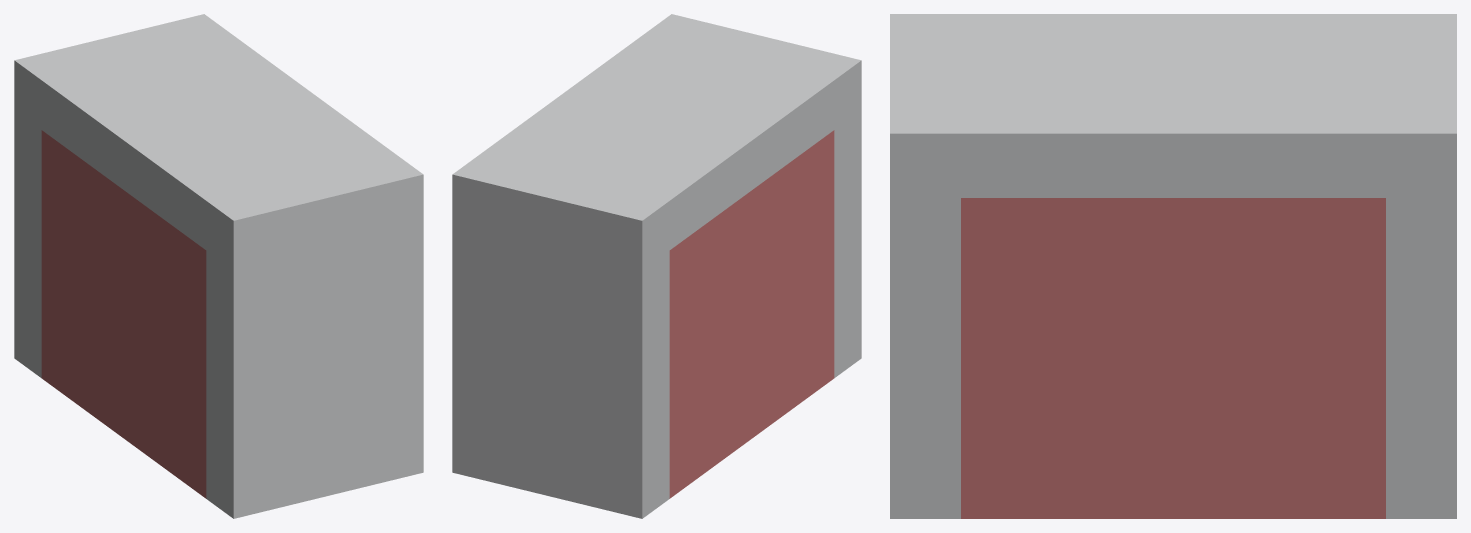
The model's file is step_02.glb.
3 renders of one model, left to right at view 1: azimuth 30°, elevation 25°; view 2: azimuth 150°, elevation 25°; view 3: azimuth 270°, elevation 25°, orthographic. The views are drawn at different scales.
Visible parts, largest first — view 1: part__motor clamp, removed__motor clamp; view 2: part__motor clamp, removed__motor clamp; view 3: part__motor clamp, removed__motor clamp.
Boxes of the visible parts, x1=… form: part__motor clamp: x1=14, y1=14, x2=423, y2=518; removed__motor clamp: x1=41, y1=130, x2=206, y2=498; part__motor clamp: x1=452, y1=14, x2=861, y2=518; removed__motor clamp: x1=669, y1=130, x2=834, y2=498; part__motor clamp: x1=890, y1=14, x2=1456, y2=518; removed__motor clamp: x1=961, y1=198, x2=1385, y2=518.
Size of the model in its own units: 8 by 12 by 16.
